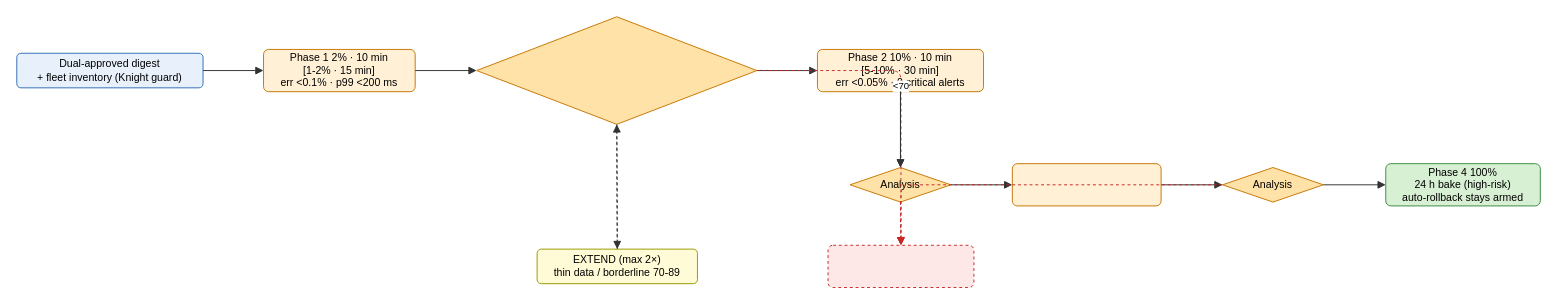
Image size: 1557x304. Some labels were removed from this diagram. Each missing label, with the centre of its shape:
"Analysis Welch t (latency) χ² (errors) · ≥5,000 req composite ≥90" goes at (x=616, y=70).
"Phase 3 50% · 15 min [25-50% · 60 min] all SLOs · no degradation" goes at (x=1086, y=184).
"ROLLBACK weight→0 · Rollout abort < 60 s · incident + audit" goes at (x=900, y=266).
